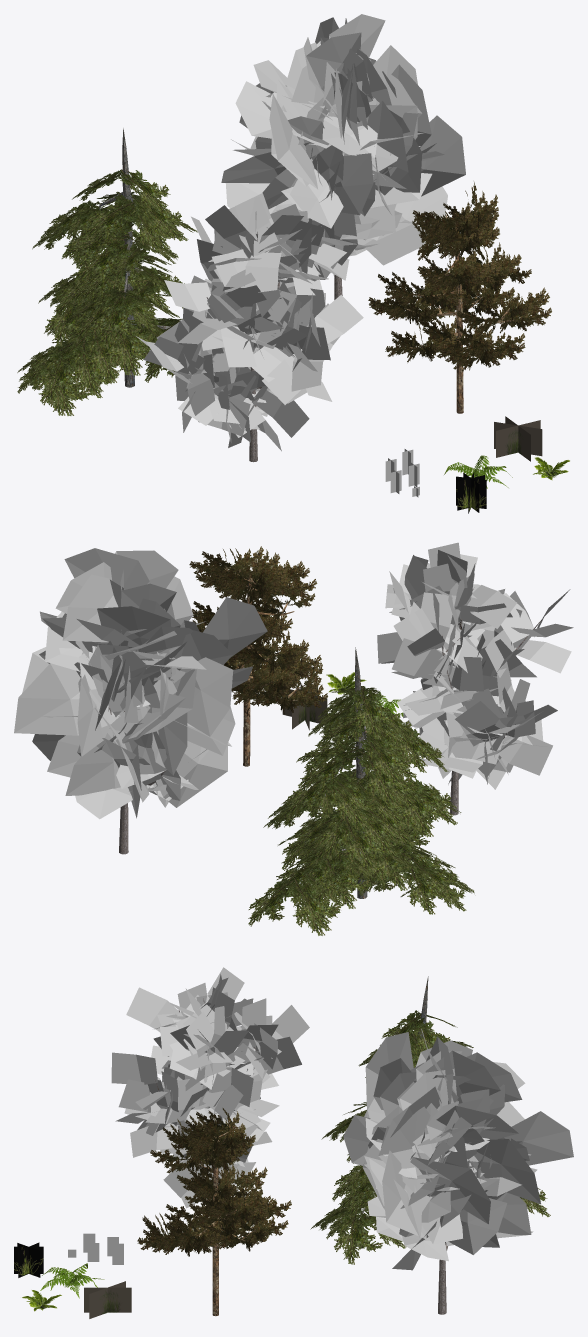
File: tree.fbx
3 views of the same model, one above another, from view 1: azimuth 30°, elevation 25°; view 2: azimuth 150°, elevation 25°; view 3: azimuth 270°, elevation 25° (orthographic). The views are drawn at different scales.
Parts seen in each view (by area): view 1: 2, 1, 5, 12, 10, 11, 3; view 2: 2, 5, 1, 12, 10; view 3: 2, 1, 12, 5, 10, 11, 3.
Part boxes in pixels (<box>): 2: <box>221,14,465,299</box>; 1: <box>136,193,363,462</box>; 5: <box>17,128,197,415</box>; 12: <box>368,182,551,413</box>; 10: <box>494,416,542,461</box>; 11: <box>456,472,486,513</box>; 3: <box>444,455,512,488</box>; 2: <box>14,548,267,854</box>; 5: <box>248,647,474,935</box>; 1: <box>377,542,573,815</box>; 12: <box>189,546,327,766</box>; 10: <box>282,684,327,730</box>; 2: <box>343,1029,573,1314</box>; 1: <box>111,967,309,1208</box>; 12: <box>137,1108,291,1316</box>; 5: <box>310,976,550,1264</box>; 10: <box>84,1281,131,1318</box>; 11: <box>14,1242,43,1277</box>; 3: <box>40,1263,104,1298</box>.
Size of the model in its own units: 1546 by 1034 by 1876.
